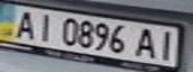0: (57, 15, 81, 47)
6: (109, 21, 133, 55)
8: (75, 18, 96, 50)
9: (90, 20, 112, 52)
A: (133, 25, 163, 60), (9, 7, 39, 40)
I: (151, 28, 181, 61), (33, 11, 57, 43)
